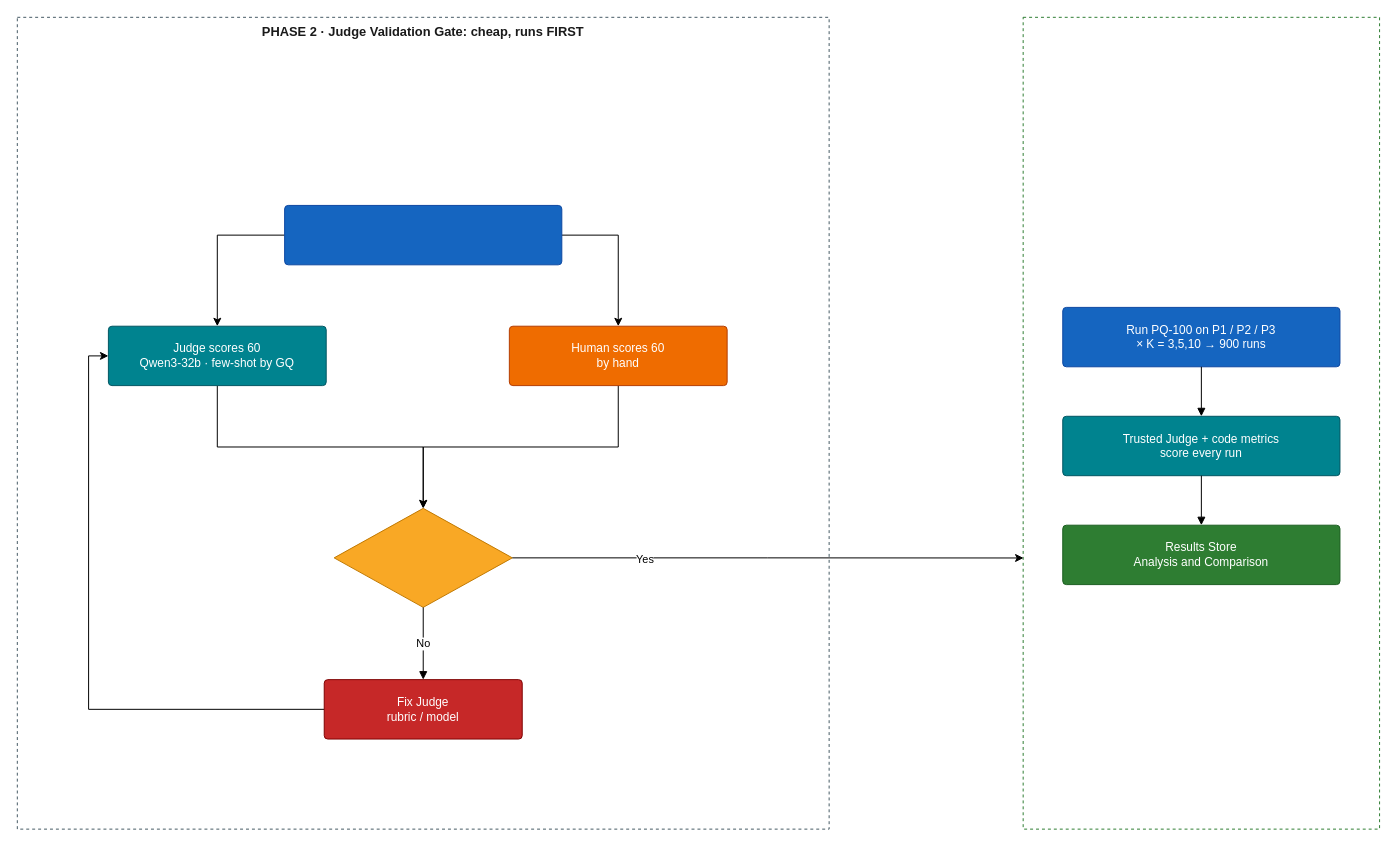
Some shapes in this 1397 by 846 pixel diagram are drawn without their labels. Each missing label, with the box of its shape:
Agreement > 80% ?: (333, 507, 512, 607)
PHASE 3 · Full Benchmark, only after the gate passes: (1022, 16, 1380, 829)
Run JEQ-20 on P1 / P2 / P3 at single K = 5 → 60 outputs: (284, 204, 562, 265)
